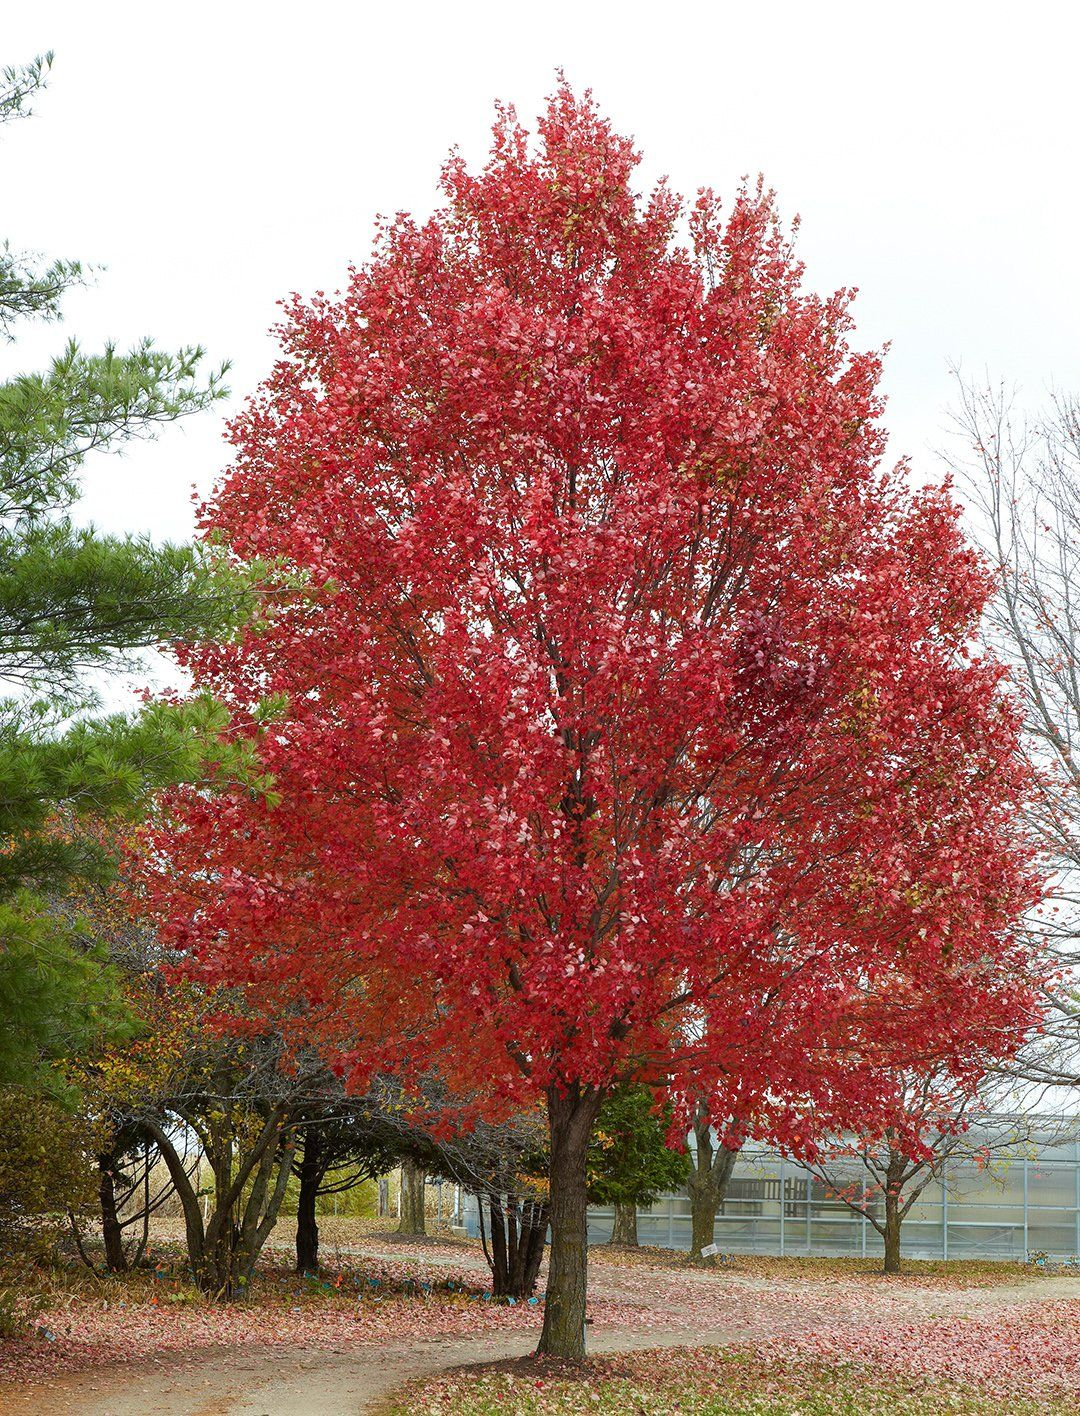tree: (110, 60, 1080, 1382)
